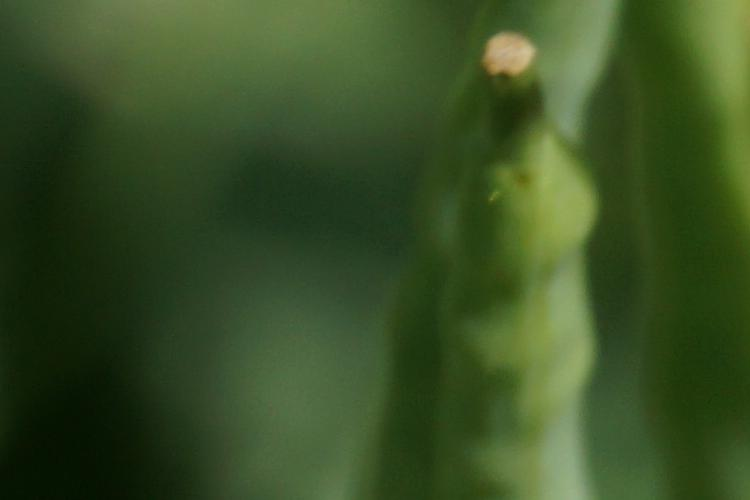bud: (421, 31, 633, 442)
